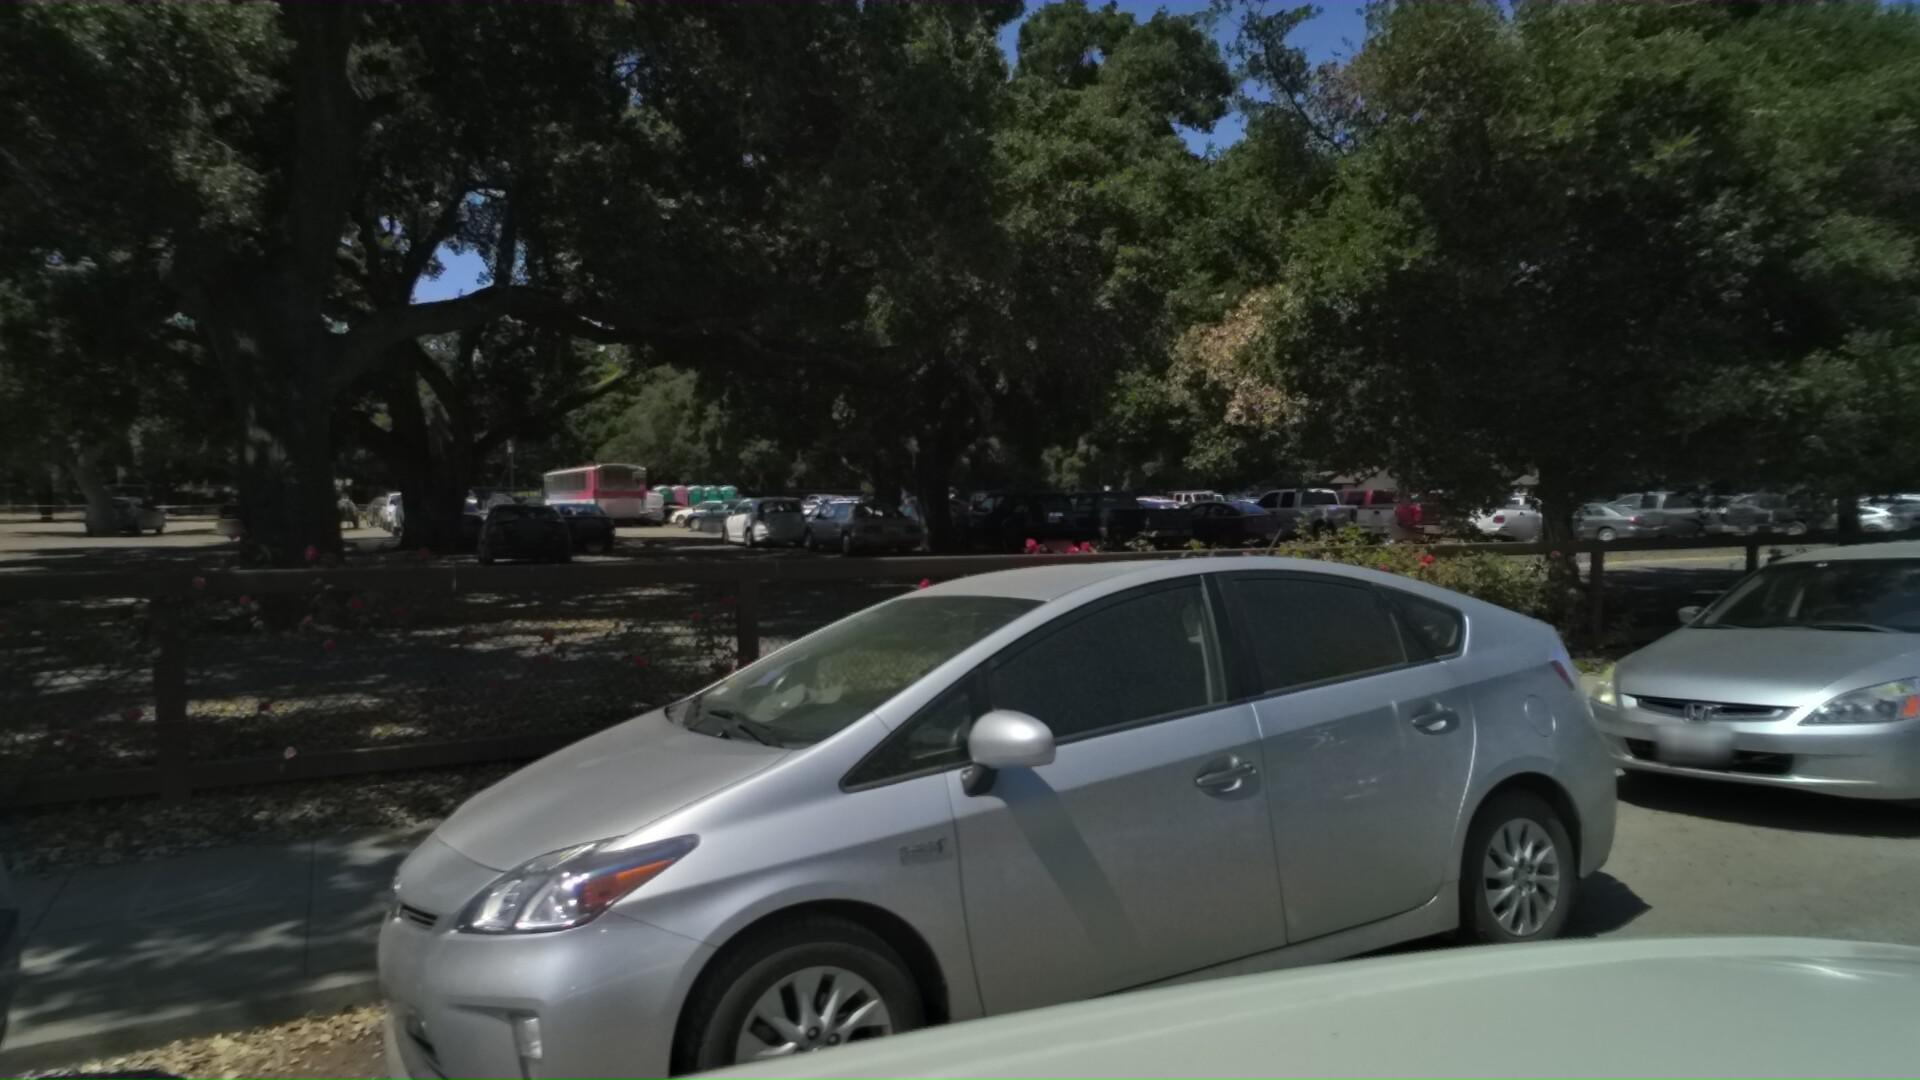car: (495, 513, 1756, 1080), (1572, 509, 1920, 891)
other_vehicle: (1913, 295, 1920, 754)
